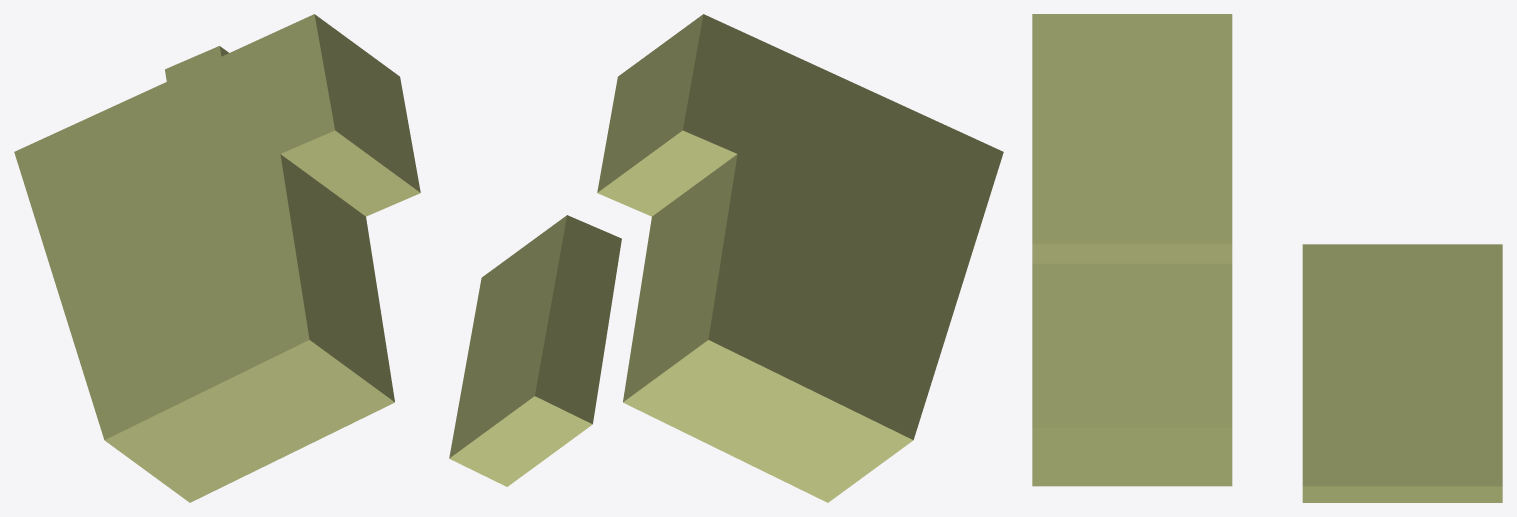
The picture shows the model from 3 angles, left to right: view 1: azimuth 30°, elevation 25°; view 2: azimuth 150°, elevation 25°; view 3: azimuth 270°, elevation 25°; orthographic projection. The views are drawn at different scales.
Visible parts, largest first — view 1: 0_0_1_2_0_0_0_2_2_2; view 2: 0_0_1_2_0_0_0_2_2_2; view 3: 0_0_1_2_0_0_0_2_2_2.
Part boxes in pixels (x1,y1,x2,y2): 0_0_1_2_0_0_0_2_2_2: (14,14,420,502); 0_0_1_2_0_0_0_2_2_2: (449,14,1003,502); 0_0_1_2_0_0_0_2_2_2: (1032,14,1502,502).
Bounding box in the file's own units: 14.3 × 14.5 × 14.1.
